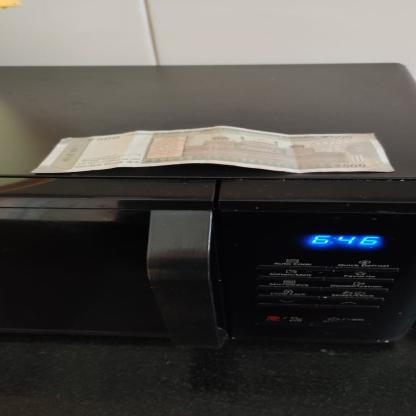New500Back: (27, 124, 396, 176)
